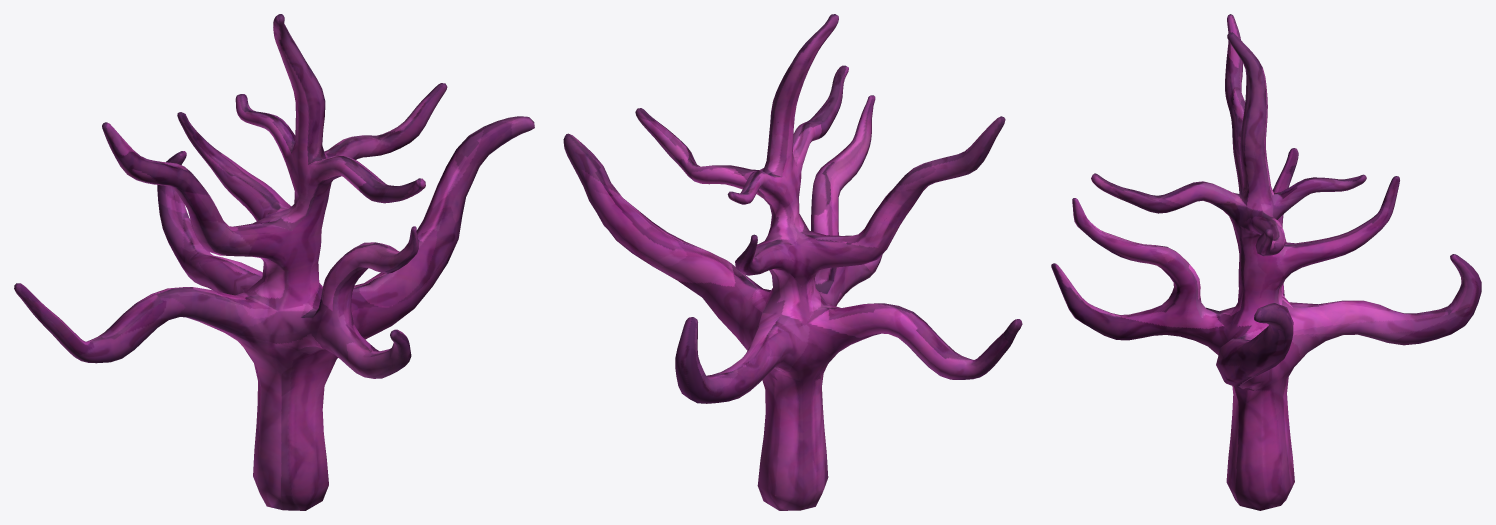
File: Atkinson Speed Demons Tree 1.fbx
3 views of the same model, side by side, from view 1: azimuth 30°, elevation 25°; view 2: azimuth 150°, elevation 25°; view 3: azimuth 270°, elevation 25° (orthographic). The views are drawn at different scales.
Visible parts, largest first — view 1: Plane; view 2: Plane; view 3: Plane.
Part boxes in pixels (box(x1,y1,x2,y2)): Plane: box(14, 14, 534, 510); Plane: box(563, 14, 1022, 510); Plane: box(1051, 14, 1481, 510).
Bounding box in the file's own units: 1702 × 1669 × 1411.
1 material, 1 textured.
